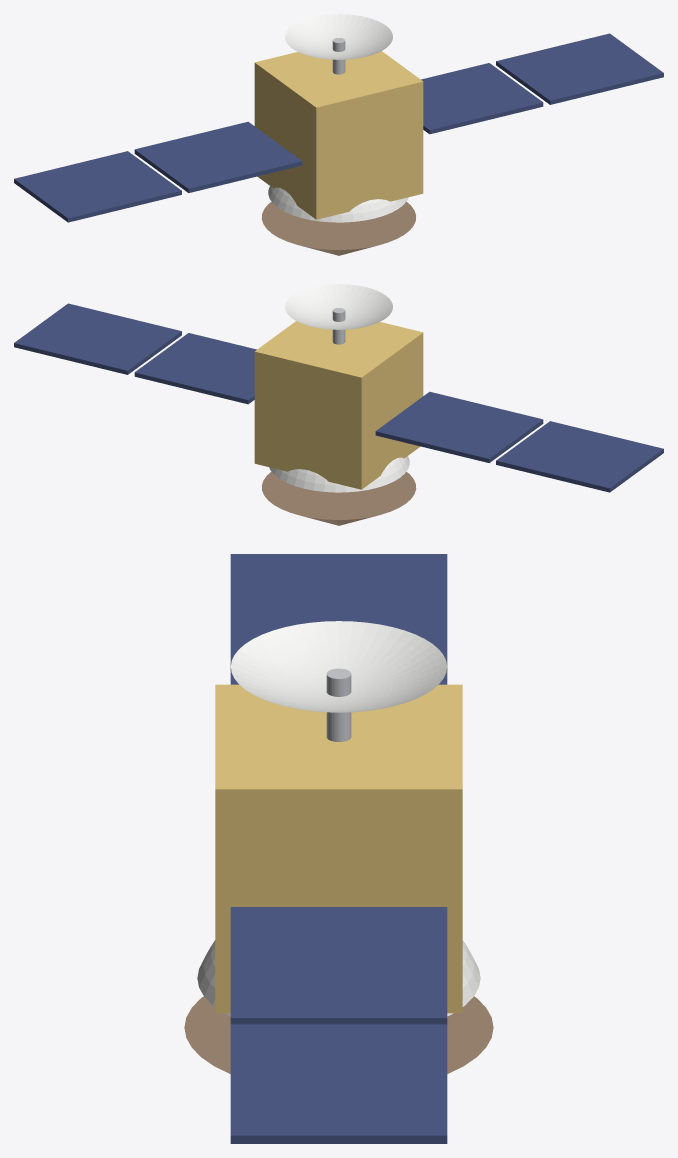
The model's file is davinci-low.glb.
The picture shows the model from 3 angles, top to bottom: view 1: azimuth 30°, elevation 25°; view 2: azimuth 150°, elevation 25°; view 3: azimuth 270°, elevation 25°; orthographic projection. The views are drawn at different scales.
Visible parts, largest first — view 1: davinci; view 2: davinci; view 3: davinci.
Boxes of the visible parts, x1,y1,x2,y2 form: davinci: (14, 14, 663, 255); davinci: (14, 284, 663, 525); davinci: (184, 554, 493, 1143).
Bounding box in the file's own units: 8.9 × 3.12 × 2.
